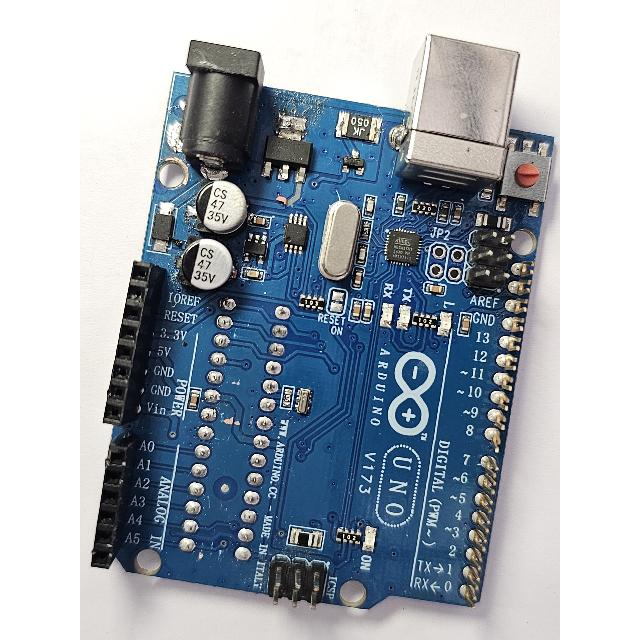missing_atmega: (167, 288, 299, 577)
missing_digital_pins: (453, 251, 539, 613)
